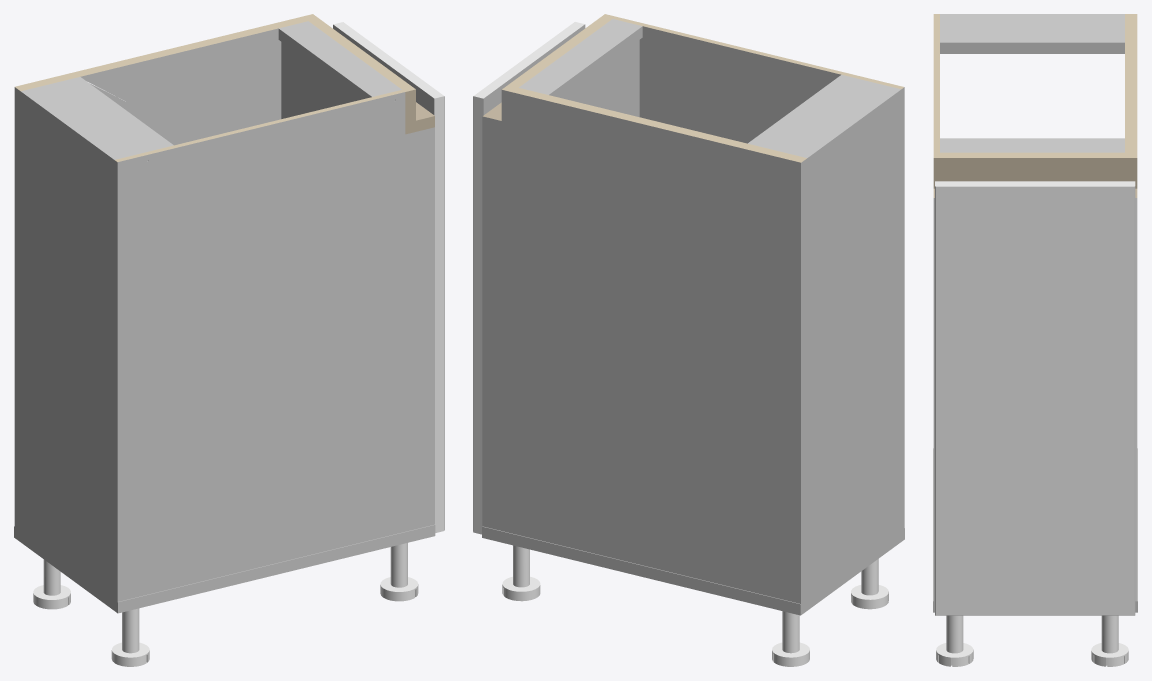
The picture shows the model from 3 angles, left to right: view 1: azimuth 30°, elevation 25°; view 2: azimuth 150°, elevation 25°; view 3: azimuth 270°, elevation 25°; orthographic projection.
Visible parts, largest first — view 1: Group1; view 2: Group1; view 3: Group1.
Boxes of the visible parts, x1,y1,x2,y2 form: Group1: (14, 14, 444, 666); Group1: (473, 14, 904, 666); Group1: (933, 14, 1137, 666).
Size of the model in its own units: 550 by 817 by 301.
